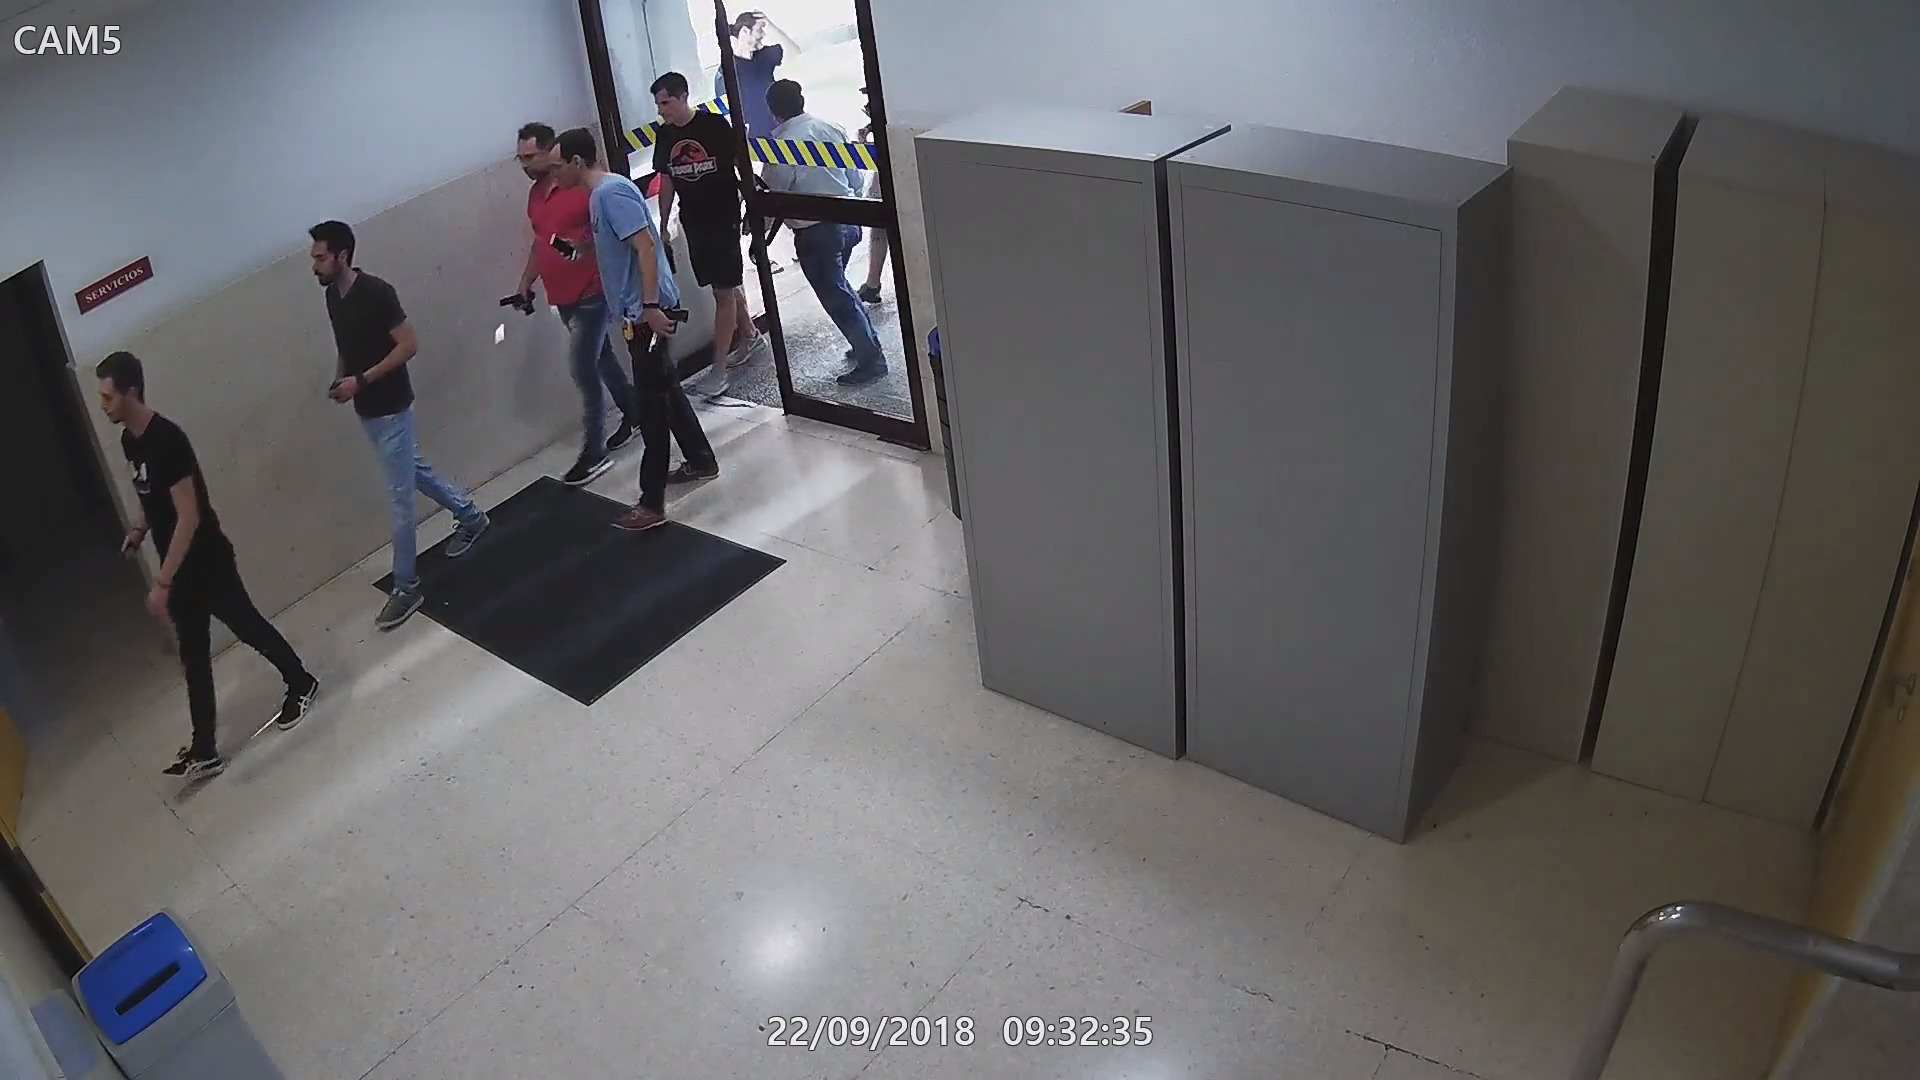Handgun: (493, 284, 539, 318), (112, 524, 142, 571), (655, 228, 680, 278), (320, 367, 355, 401), (654, 305, 690, 334)
Knife: (645, 302, 671, 357)
